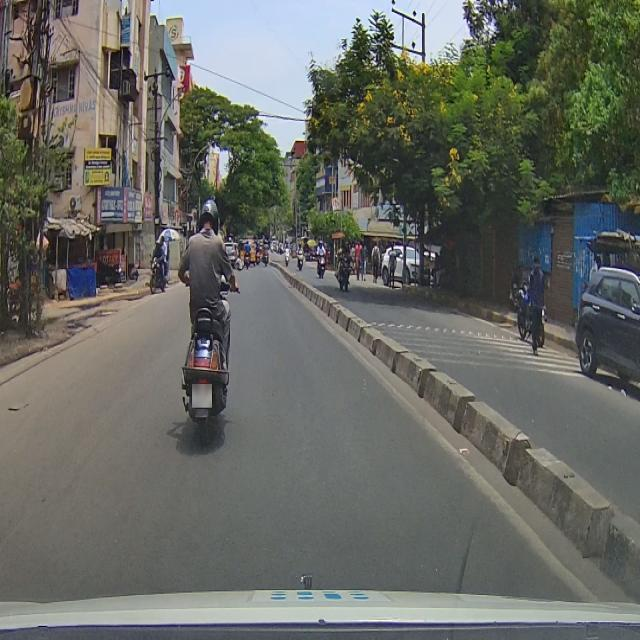electric pole ahead at: (15, 1, 60, 340)
motorcycle ahead at: (178, 305, 234, 435)
